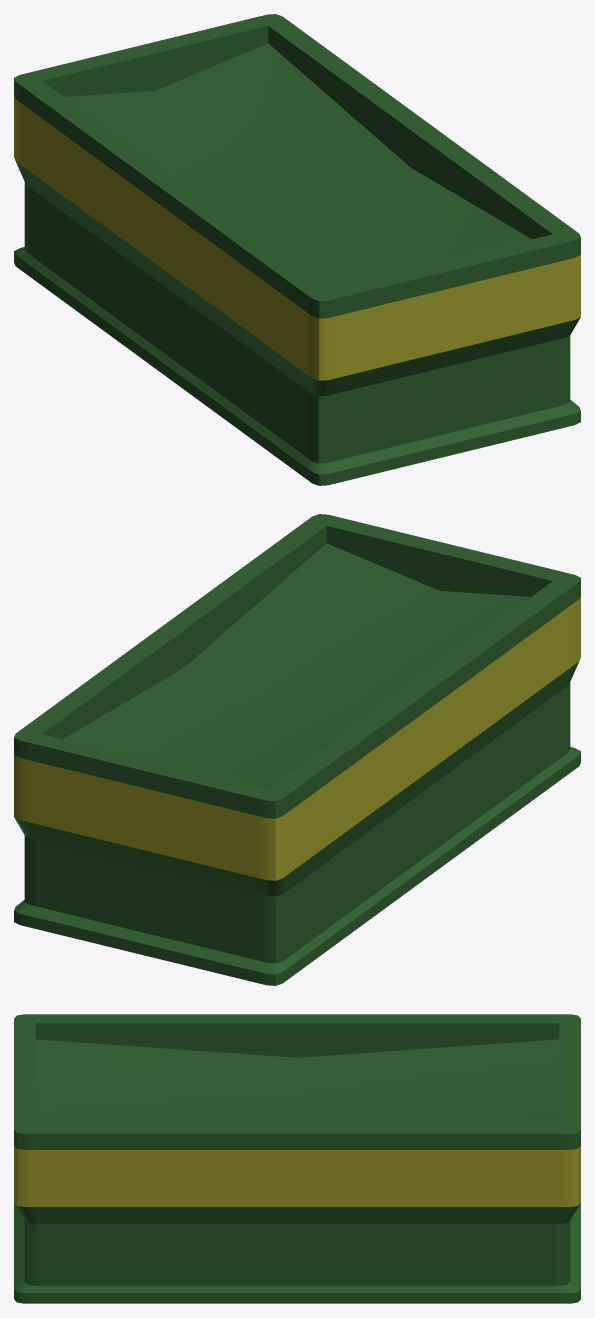
The model's file is FlowerBedStart.fbx.
The picture shows the model from 3 angles, top to bottom: view 1: azimuth 30°, elevation 25°; view 2: azimuth 150°, elevation 25°; view 3: azimuth 270°, elevation 25°; orthographic projection. The views are drawn at different scales.
Visible parts, largest first — view 1: Box002; view 2: Box002; view 3: Box002.
Part boxes in pixels (box(x1,y1,x2,y2)): Box002: box(14, 14, 580, 485); Box002: box(14, 514, 580, 985); Box002: box(14, 1014, 580, 1303).
Size of the model in its own units: 59.06 by 39.01 by 118.
